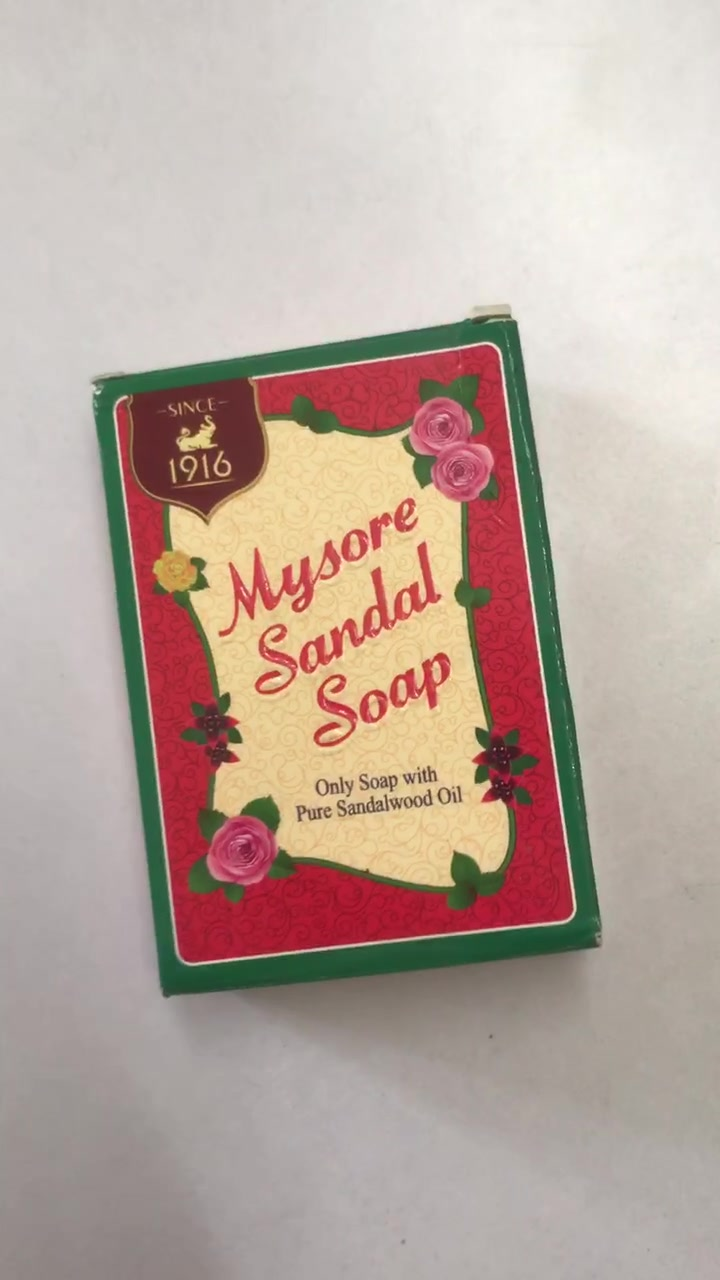mysore sandal soap: (95, 312, 602, 1002)
